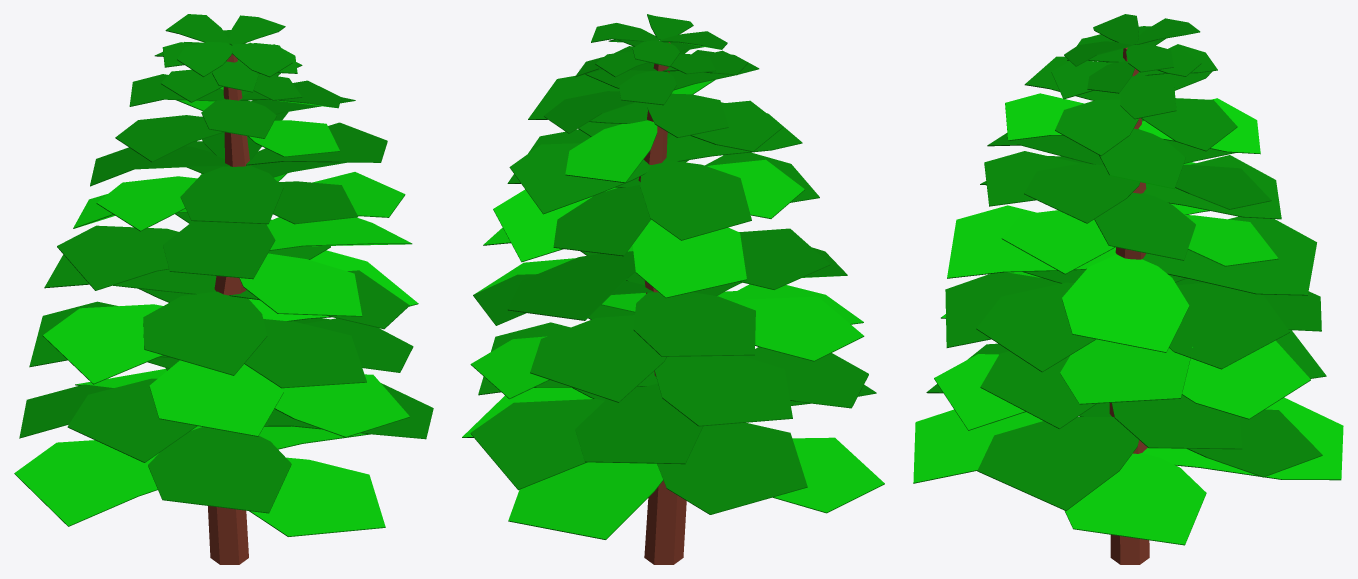
File: Tree_4b.fbx
3 views of the same model, side by side, from view 1: azimuth 30°, elevation 25°; view 2: azimuth 150°, elevation 25°; view 3: azimuth 270°, elevation 25° (orthographic).
Parts seen in each view (by area): view 1: Tree_4b; view 2: Tree_4b; view 3: Tree_4b.
Part boxes in pixels (x1=…): Tree_4b: x1=14, y1=14, x2=433, y2=564; Tree_4b: x1=462, y1=14, x2=884, y2=564; Tree_4b: x1=913, y1=14, x2=1343, y2=564.
Bounding box in the file's own units: 456 × 629 × 466.
